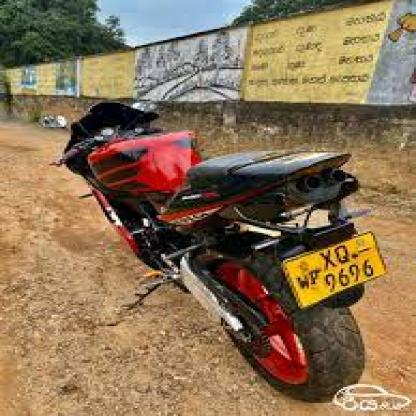bike back: (17, 71, 393, 397)
number plate: (285, 240, 381, 295)
